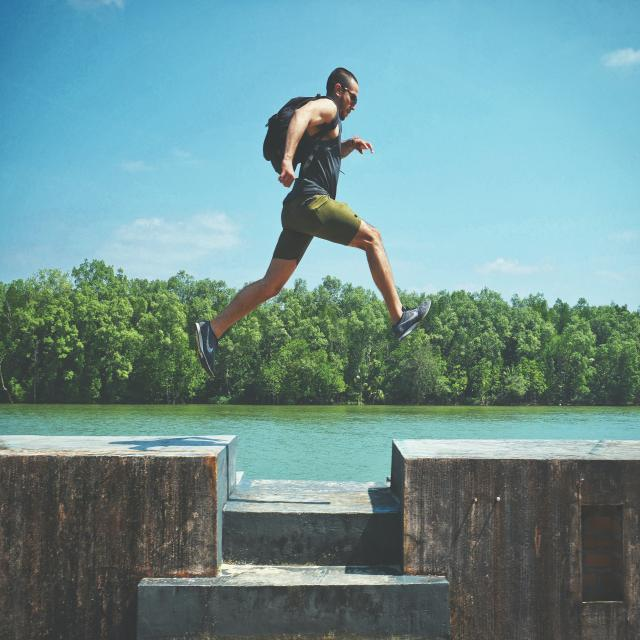running: (185, 60, 437, 382)
